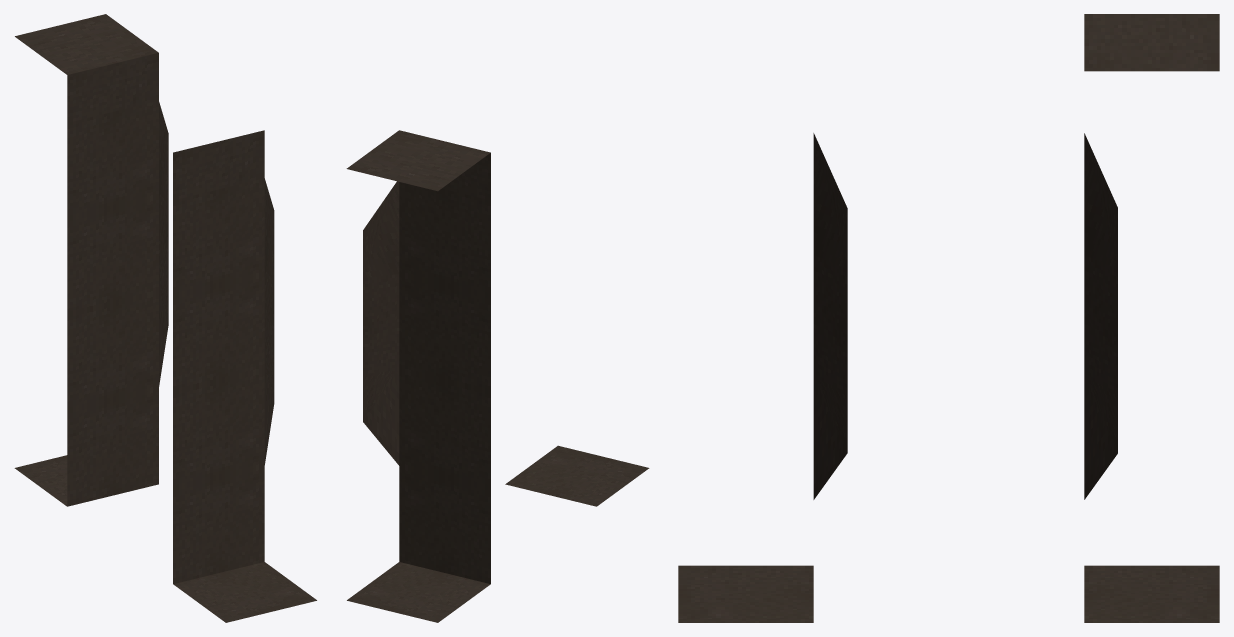
Rendered from connectors.glb.
The picture shows the model from 3 angles, left to right: view 1: azimuth 30°, elevation 25°; view 2: azimuth 150°, elevation 25°; view 3: azimuth 270°, elevation 25°; orthographic projection. The views are drawn at different scales.
Parts seen in each view (by area): view 1: connectorDirt2-col, connectorDirt-col; view 2: connectorDirt2-col, connectorDirt-col; view 3: connectorDirt2-col, connectorDirt-col.
Part boxes in pixels (x1,y1,x2,y2): connectorDirt2-col: [14, 14, 168, 506]; connectorDirt-col: [173, 130, 316, 622]; connectorDirt2-col: [346, 130, 490, 622]; connectorDirt-col: [505, 445, 649, 506]; connectorDirt2-col: [1084, 14, 1219, 622]; connectorDirt-col: [678, 133, 847, 622].
Size of the model in its own units: 1.25 by 4.5 by 4.
Materials: 1 (1 with a texture image).
